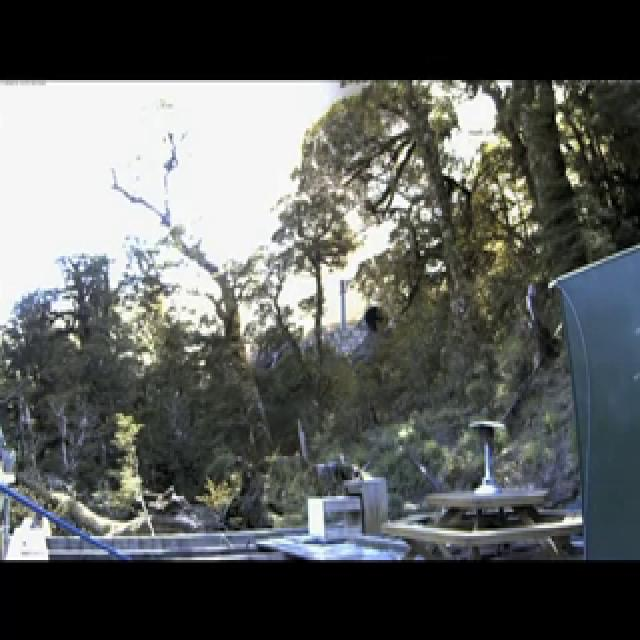explosion: (129, 92, 414, 495)
